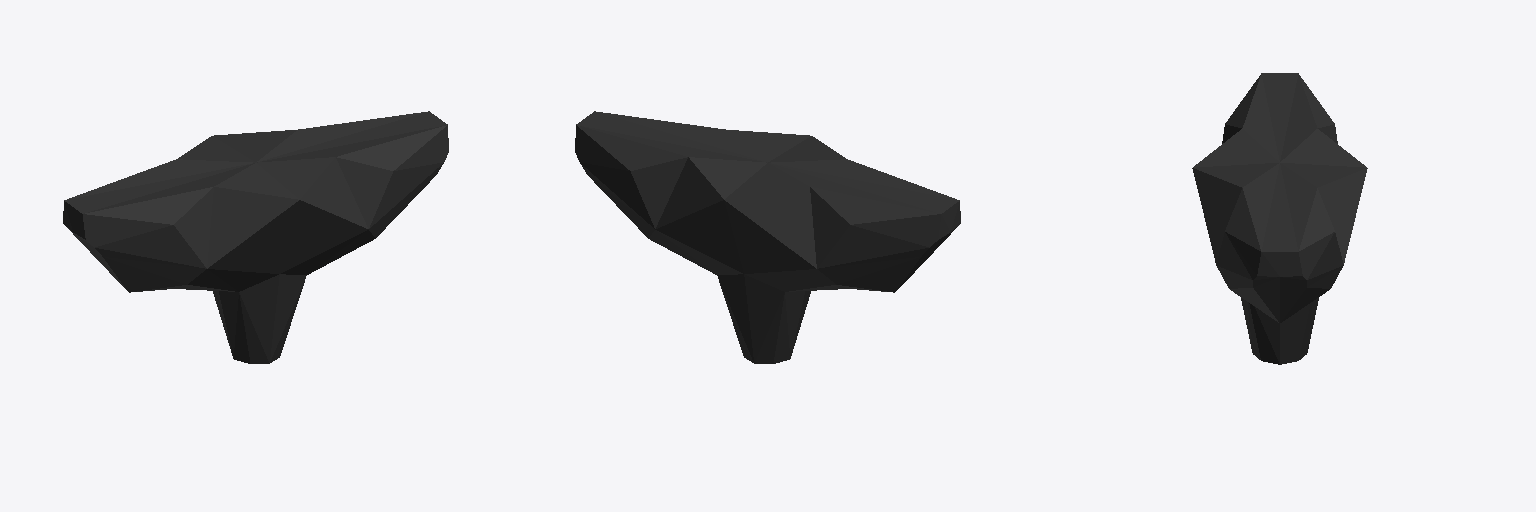
Rendered from fountain.obj.
The picture shows the model from 3 angles: view 1: azimuth 30°, elevation 25°; view 2: azimuth 150°, elevation 25°; view 3: azimuth 270°, elevation 25°; orthographic projection.
Parts seen in each view (by area): view 1: Fountain; view 2: Fountain; view 3: Fountain.
Boxes of the visible parts, x1=… form: Fountain: x1=63, y1=111, x2=448, y2=363; Fountain: x1=575, y1=111, x2=960, y2=363; Fountain: x1=1192, y1=73, x2=1367, y2=364.
Bounding box in the file's own units: 2 × 1.02 × 0.8312.